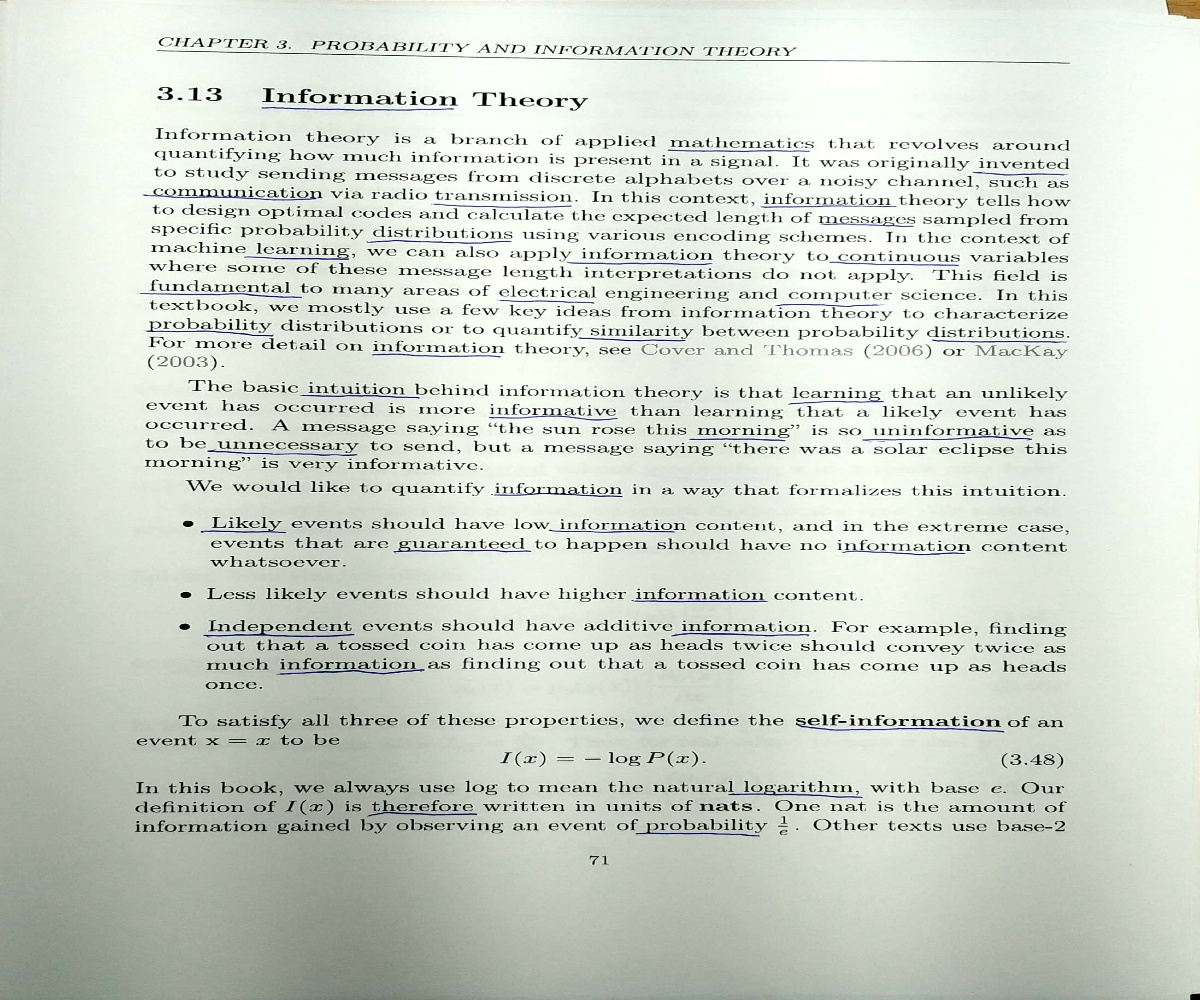underline: (795, 722, 1003, 736), (256, 102, 455, 113), (142, 326, 277, 341), (139, 193, 321, 204), (204, 446, 358, 459), (371, 351, 504, 365), (135, 289, 304, 300), (487, 412, 621, 425), (727, 790, 862, 802), (363, 237, 510, 248), (430, 200, 574, 211), (392, 548, 534, 559), (630, 597, 770, 608), (276, 667, 426, 677), (490, 490, 626, 501), (666, 145, 811, 155), (758, 202, 901, 212), (670, 629, 810, 639), (861, 434, 1035, 442), (927, 335, 1066, 345), (297, 392, 423, 403), (562, 258, 715, 267), (634, 830, 763, 840), (840, 548, 967, 558), (365, 810, 478, 821), (201, 631, 354, 639), (545, 527, 680, 536), (828, 257, 959, 266), (577, 334, 690, 344), (497, 295, 595, 306), (818, 220, 919, 230), (772, 301, 884, 310), (243, 252, 352, 261), (972, 169, 1069, 179), (689, 435, 789, 444), (788, 399, 887, 407), (199, 527, 286, 536)
